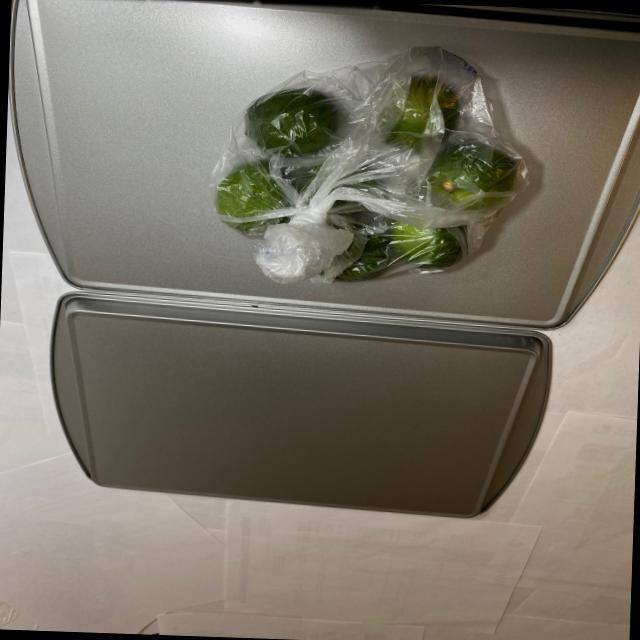lemon: (215, 63, 526, 290)
